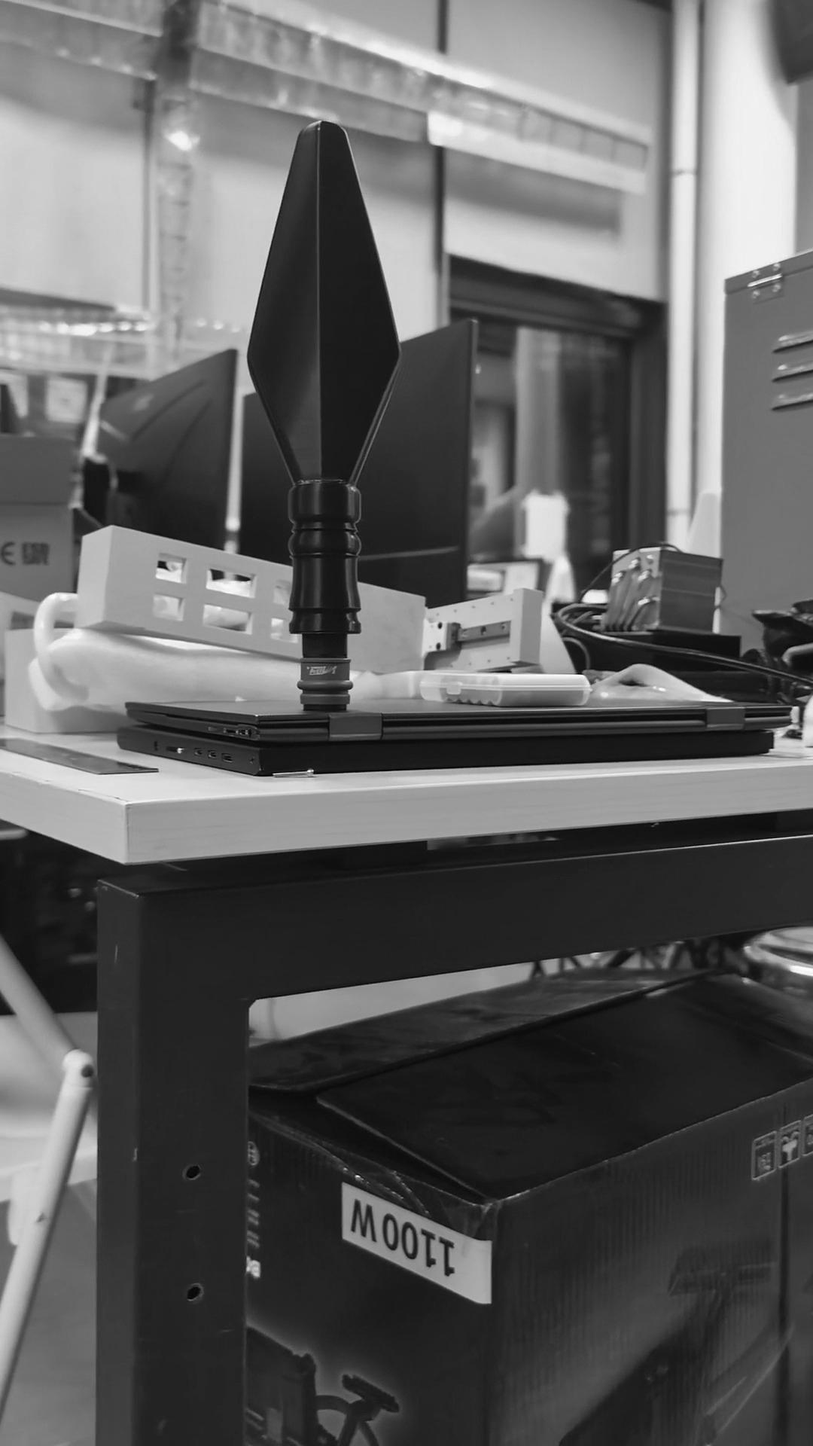base: (294, 654, 351, 708)
